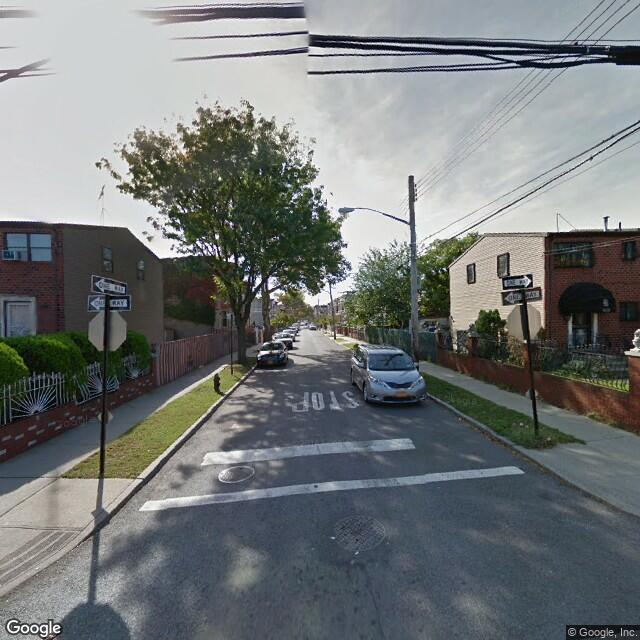litter: (517, 420, 529, 429), (545, 434, 554, 440), (352, 549, 362, 554), (454, 414, 466, 418), (330, 534, 337, 540), (145, 446, 150, 451)
